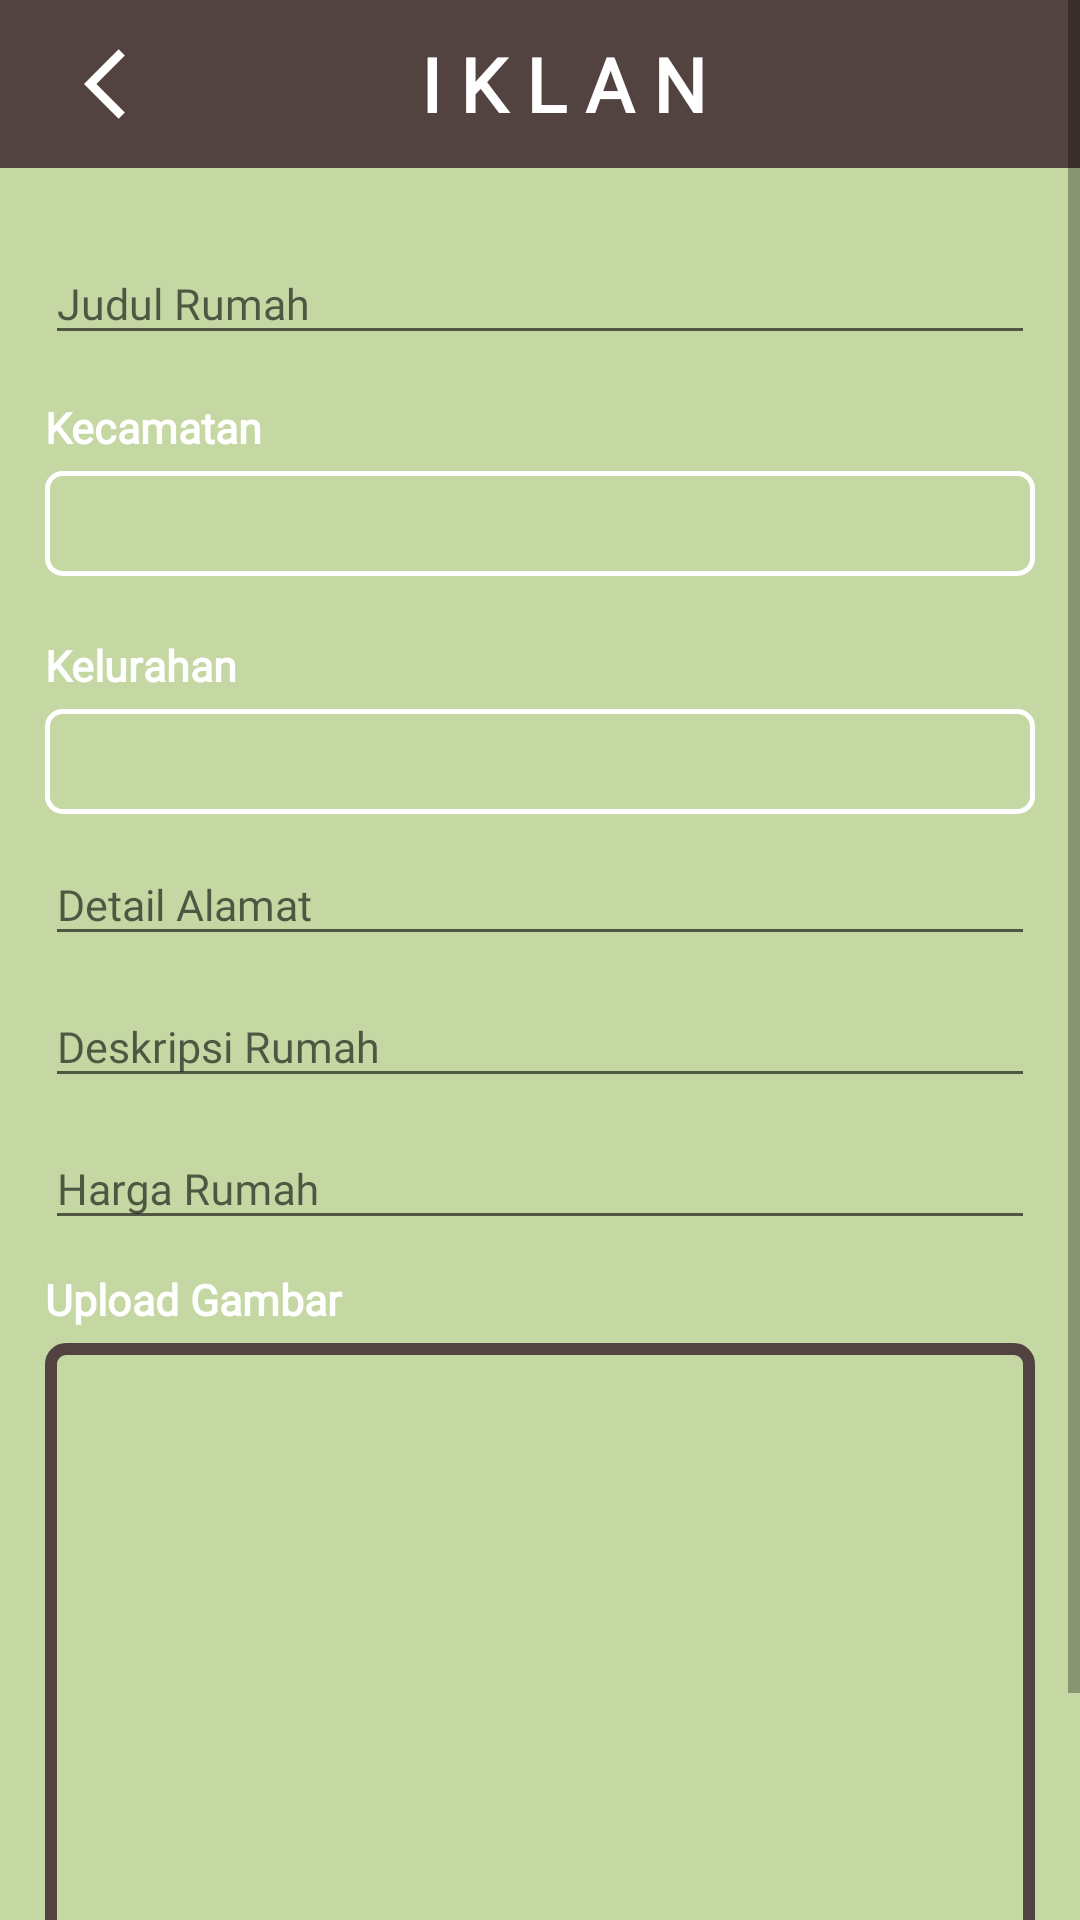

Point at icon controls on the screen. Image size 1080x1920, points as [x,y].
back: [104,84]
